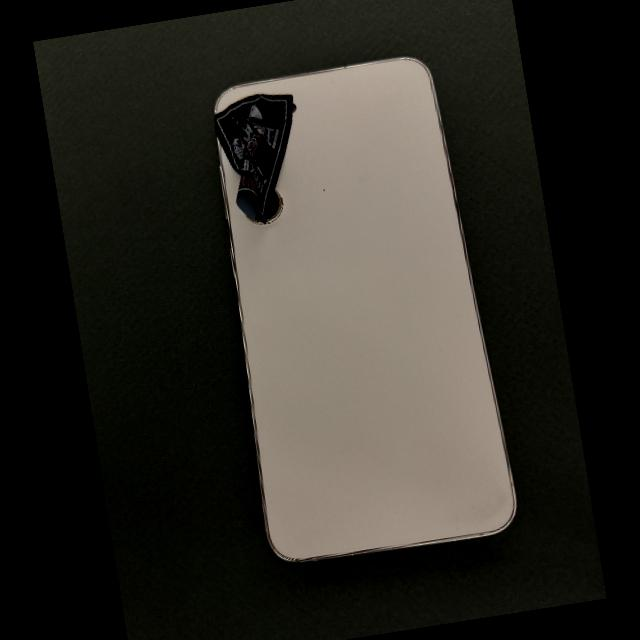lens: (267, 189, 281, 220)
phone: (215, 57, 516, 561)
sticker: (214, 94, 293, 225)
